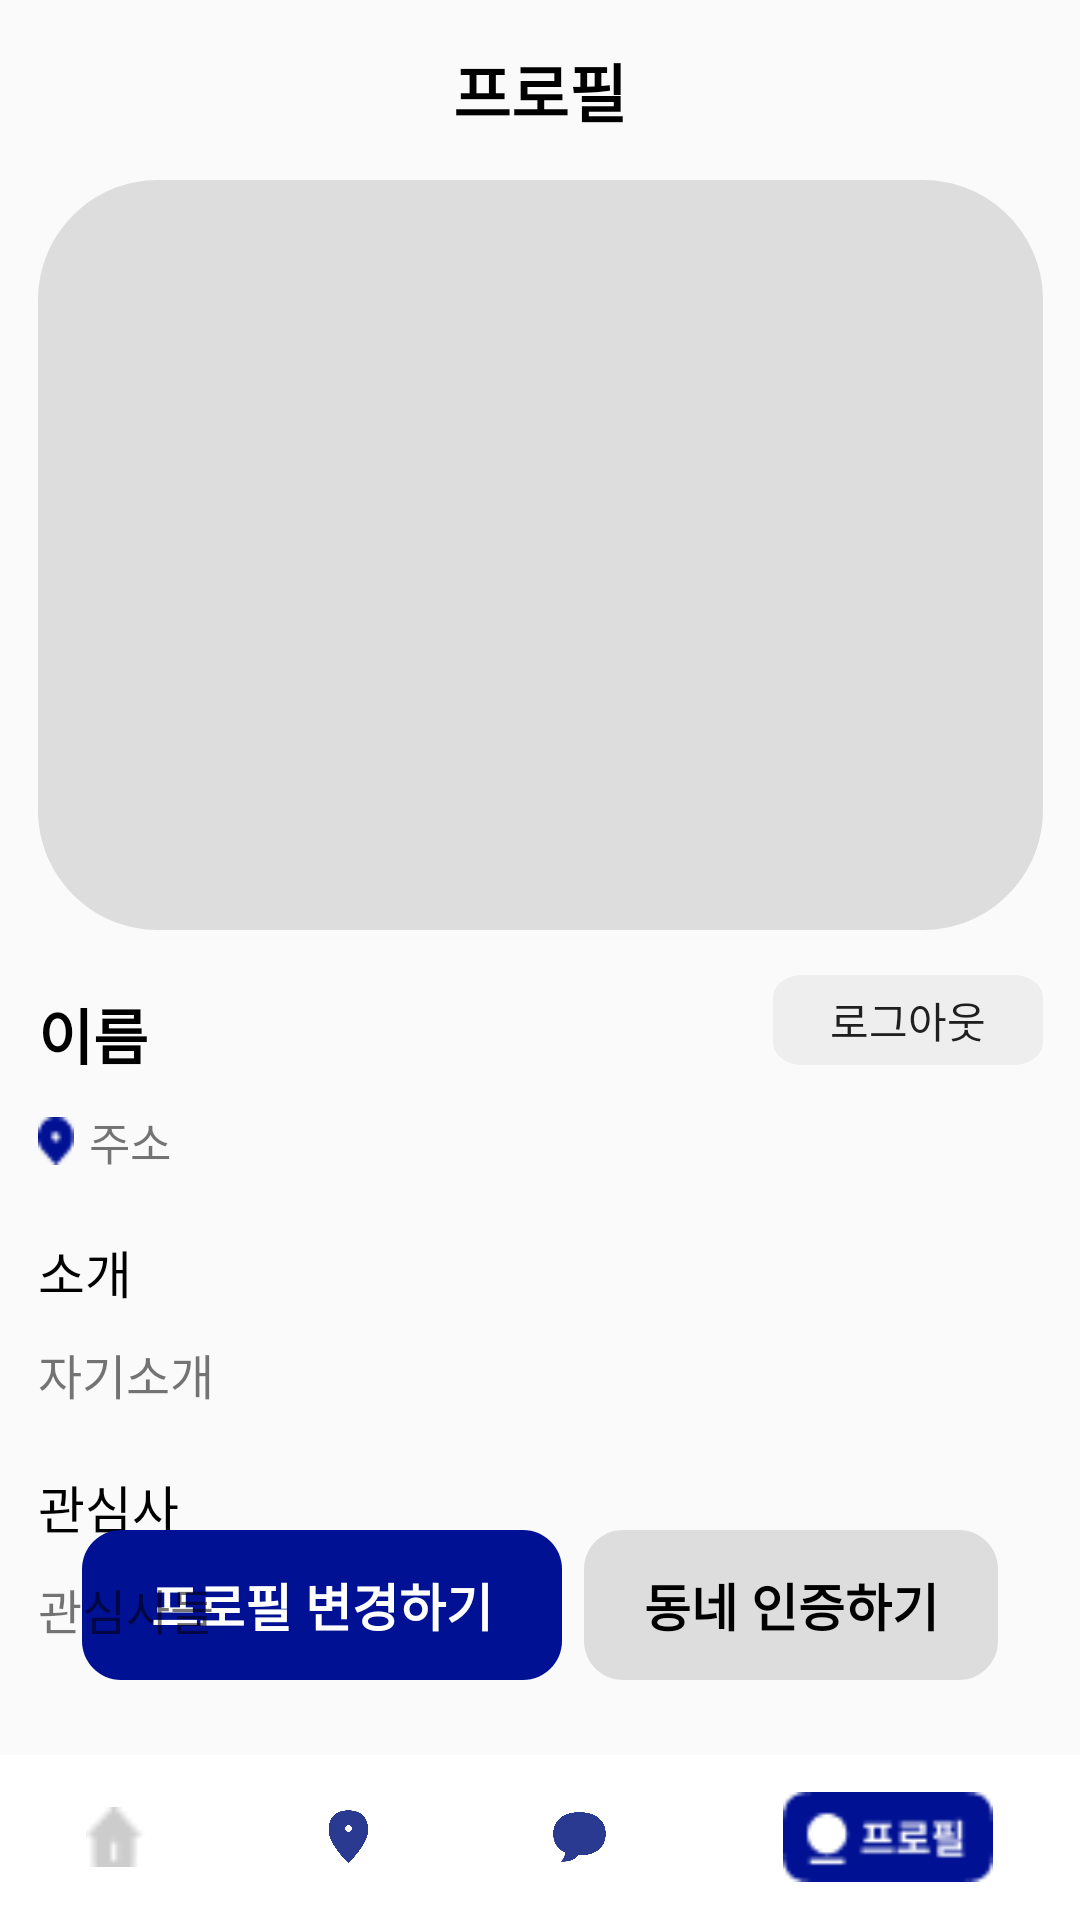

Icon bounding boxes for this 1080w x 1920h phone screenshot, format [x1=x1, y1=y1, x2=x2, y2=y2]:
main: [x1=90, y1=1807, x2=139, y2=1867]
map: [x1=329, y1=1810, x2=368, y2=1863]
mappoint: [x1=38, y1=1117, x2=74, y2=1165]
message: [x1=553, y1=1812, x2=606, y2=1862]
